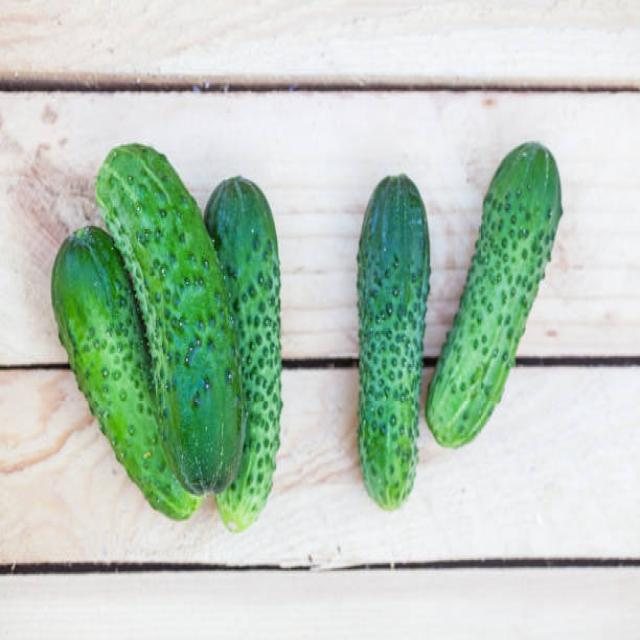cucumber: (50, 142, 284, 534), (423, 139, 561, 454), (357, 174, 432, 511)
